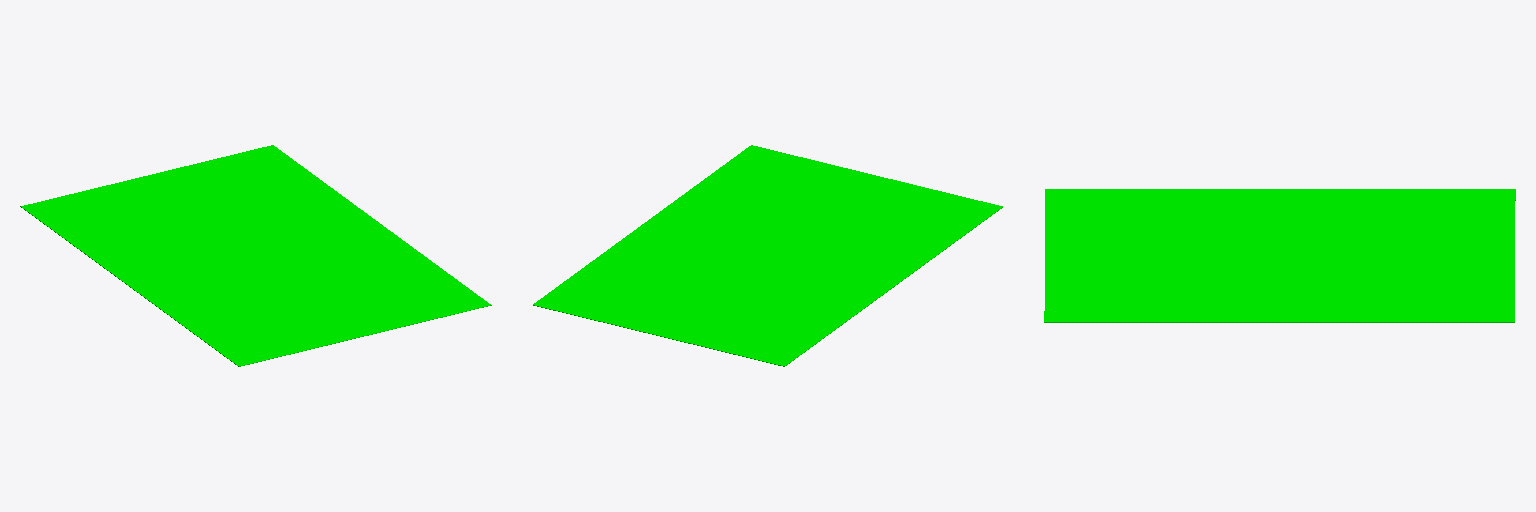
The robot description file, URDF, robot "floor":
<?xml version="1.0" ?>
<robot name="floor">
    <link name="floor">
        <inertial>
            <origin rpy="0 0 0" xyz="0 0 0"/>
            <mass value="0"/>
            <inertia ixx="0" ixy="0" ixz="0" iyy="0" iyz="0" izz="0"/>
          </inertial>
        <visual>
        <origin rpy="0 0 1.57" xyz="0 0 0"/>
         <geometry>
            <mesh filename="./meshes/floor.obj" scale="0.5 0.5 0.5" />
         </geometry>
         <material name="green">
            <color rgba="0 1 0 1"/>
          </material> 
        </visual> 
        <collision>
            <origin rpy="0 0 1.57" xyz="0 0 0" />
            <geometry>
              <mesh filename="./meshes/floor.obj" scale="0.5 0.5 0.5" />
              <!-- <box size="0.0 0.0 0.0"/> -->
            </geometry>
          </collision>  
    </link>
</robot>

--- Facts derived from the render (not from the file) ---
Views: 3 orthographic renders of the robot side by side, from view 1: azimuth 30°, elevation 25°; view 2: azimuth 150°, elevation 25°; view 3: azimuth 270°, elevation 25°.
Model floor with 1 links and 0 joints (none), rooted at floor, posed every joint at zero.
Visible links, largest first — view 1: floor; view 2: floor; view 3: floor.
Boxes of the visible links, x1,y1,x2,y2 form: floor: [20, 145, 491, 366]; floor: [533, 145, 1002, 366]; floor: [1044, 189, 1515, 322].
Size in the robot's own frame: 10.01 by 15.01 by 0.0188 metres.
1 mesh visuals loaded from 1 distinct referenced files (1 OBJ).
